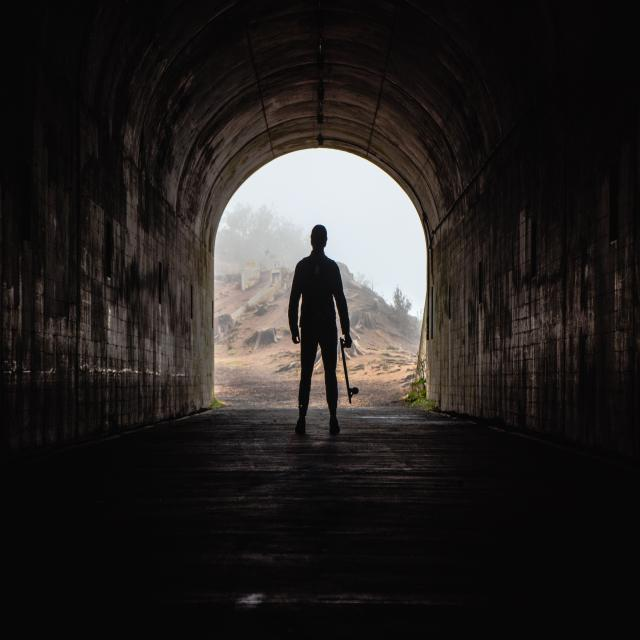standing: (287, 223, 353, 438)
